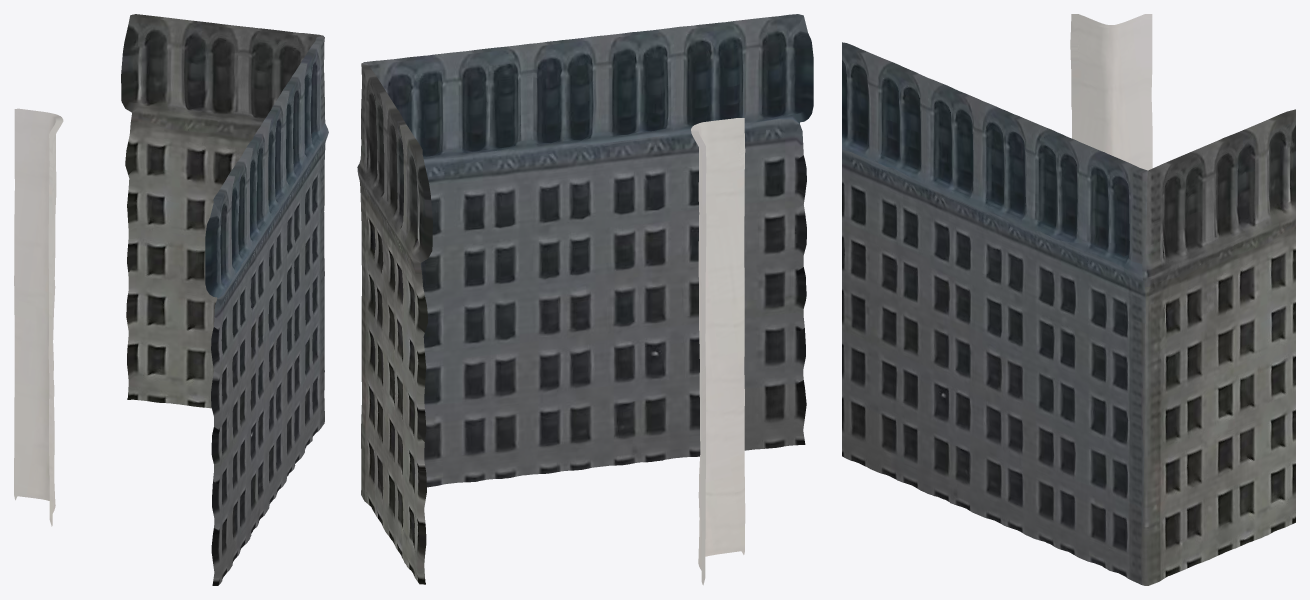
Rendered from z20-167782-405230-h1-yup-uvflip-v3-world.glb.
The picture shows the model from 3 angles, left to right: view 1: azimuth 30°, elevation 25°; view 2: azimuth 150°, elevation 25°; view 3: azimuth 270°, elevation 25°; orthographic projection. The views are drawn at different scales.
Size of the model in its own units: 25.64 by 30.84 by 30.32.
Materials: 1 (1 with a texture image).
